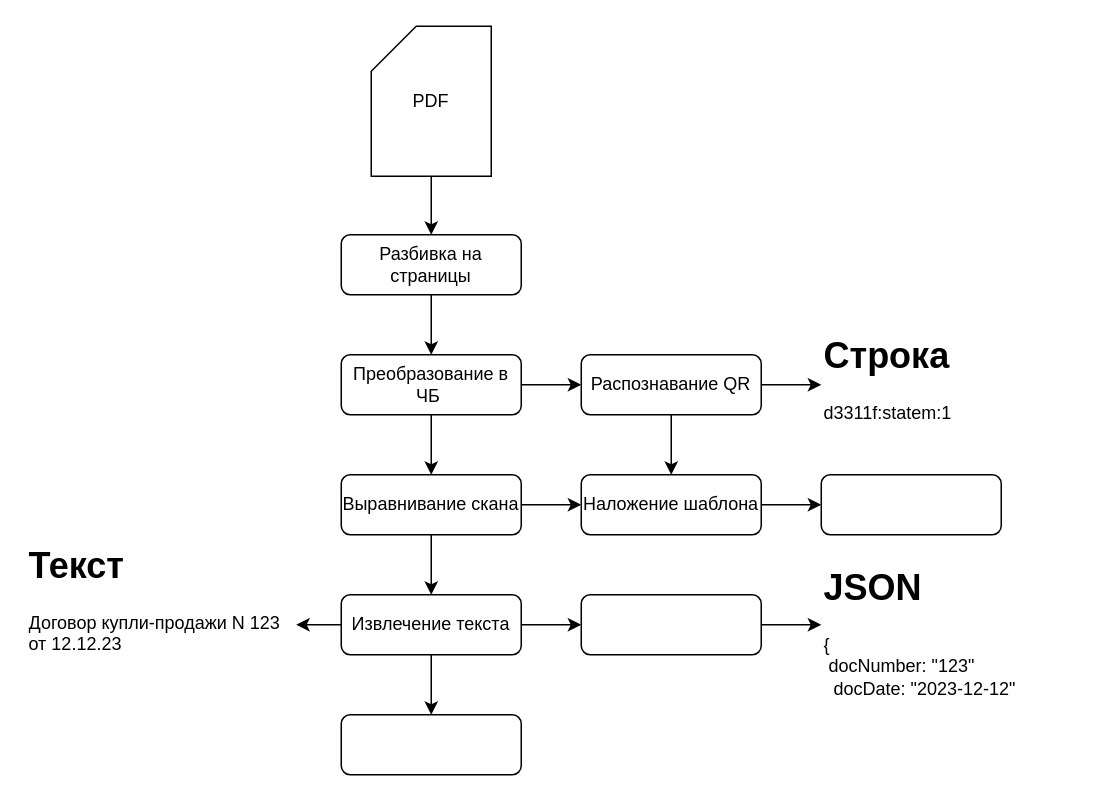
This 1116x801 diagram has some shape labels left out. The centre of each missing label's shape, as x and y in pixels:
"Классификация" belongs at [430,744].
"Проверка наличия подписей" belongs at [910,504].
"Структурирование данных" belongs at [670,624].
